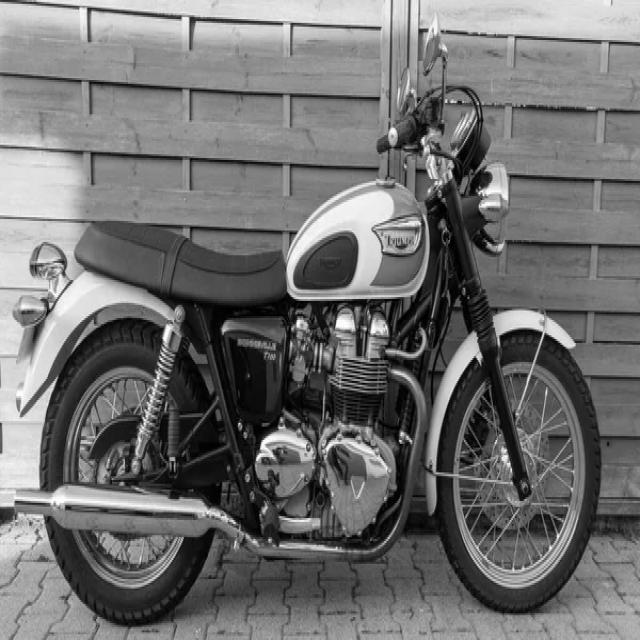Motorcycle: (14, 80, 600, 624)
